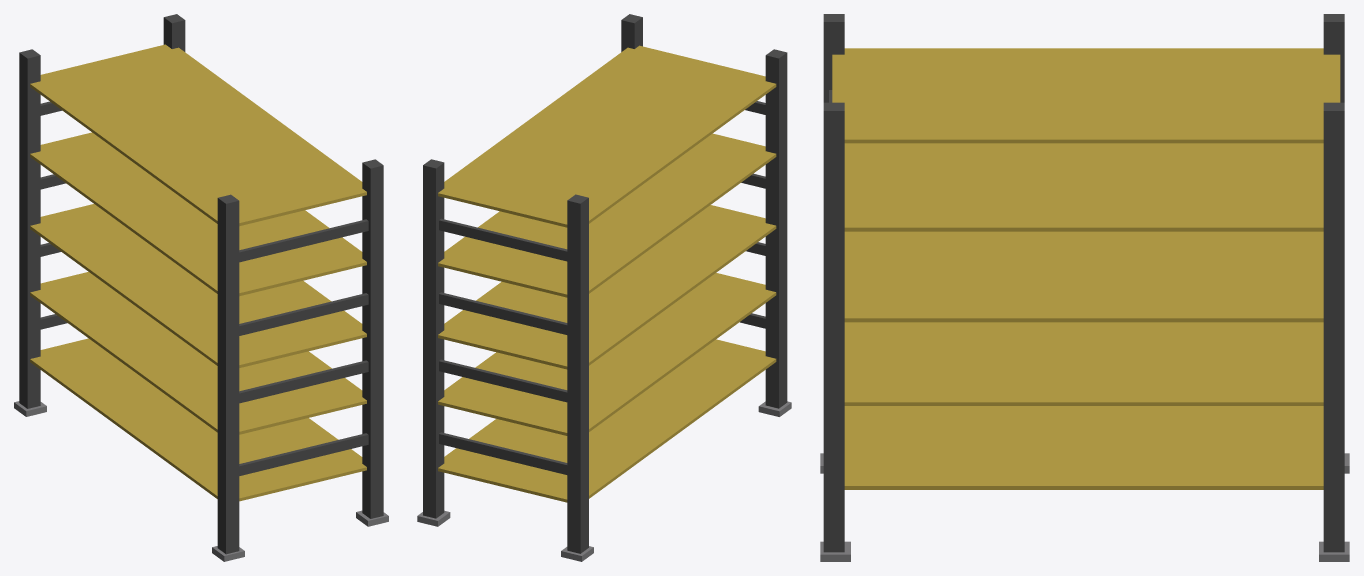
Rendered from rak.glb.
3 views of the same model, side by side, from view 1: azimuth 30°, elevation 25°; view 2: azimuth 150°, elevation 25°; view 3: azimuth 270°, elevation 25° (orthographic). The views are drawn at different scales.
Parts seen in each view (by area): view 1: Rak P3K; view 2: Rak P3K; view 3: Rak P3K.
Part boxes in pixels (bbox=[...]): Rak P3K: bbox=[14, 14, 388, 561]; Rak P3K: bbox=[417, 14, 791, 561]; Rak P3K: bbox=[820, 14, 1349, 561].
Size of the model in its own units: 0.8382 by 1.73 by 1.85.
